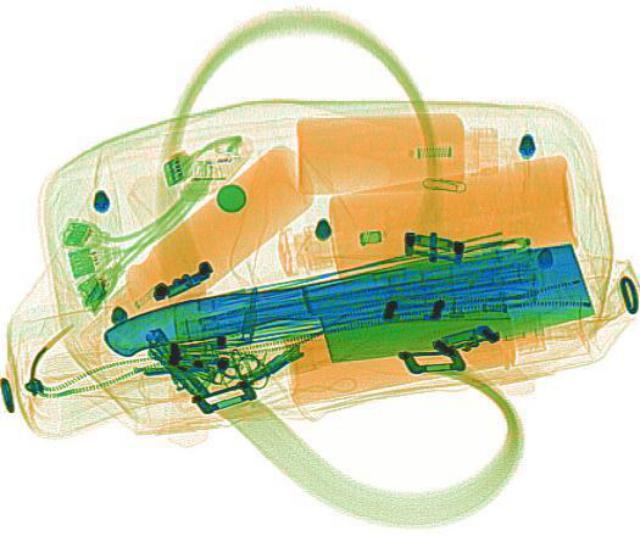Knife: (96, 236, 596, 392)
